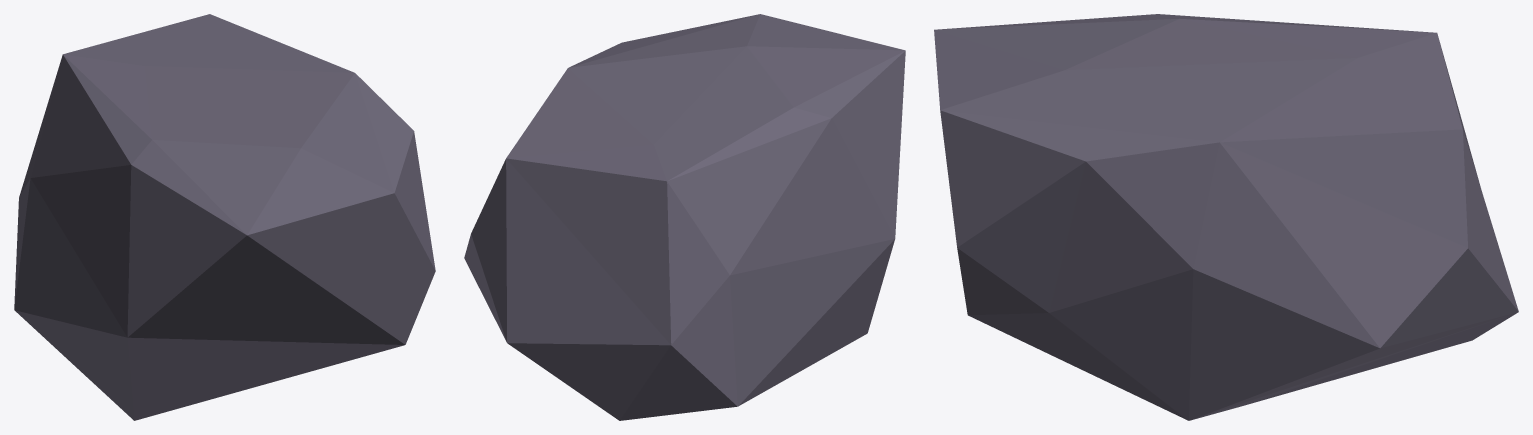
The model's file is rock4.glb.
3 renders of one model, left to right at view 1: azimuth 30°, elevation 25°; view 2: azimuth 150°, elevation 25°; view 3: azimuth 270°, elevation 25°, orthographic. The views are drawn at different scales.
Parts seen in each view (by area): view 1: rock4-col; view 2: rock4-col; view 3: rock4-col.
Boxes of the visible parts, <box> form: rock4-col: <box>14,14,435,420</box>; rock4-col: <box>464,14,905,420</box>; rock4-col: <box>934,14,1518,420</box>.
Bounding box in the file's own units: 2.76 × 2.3 × 3.72.
Materials: 1 (1 with a texture image).
